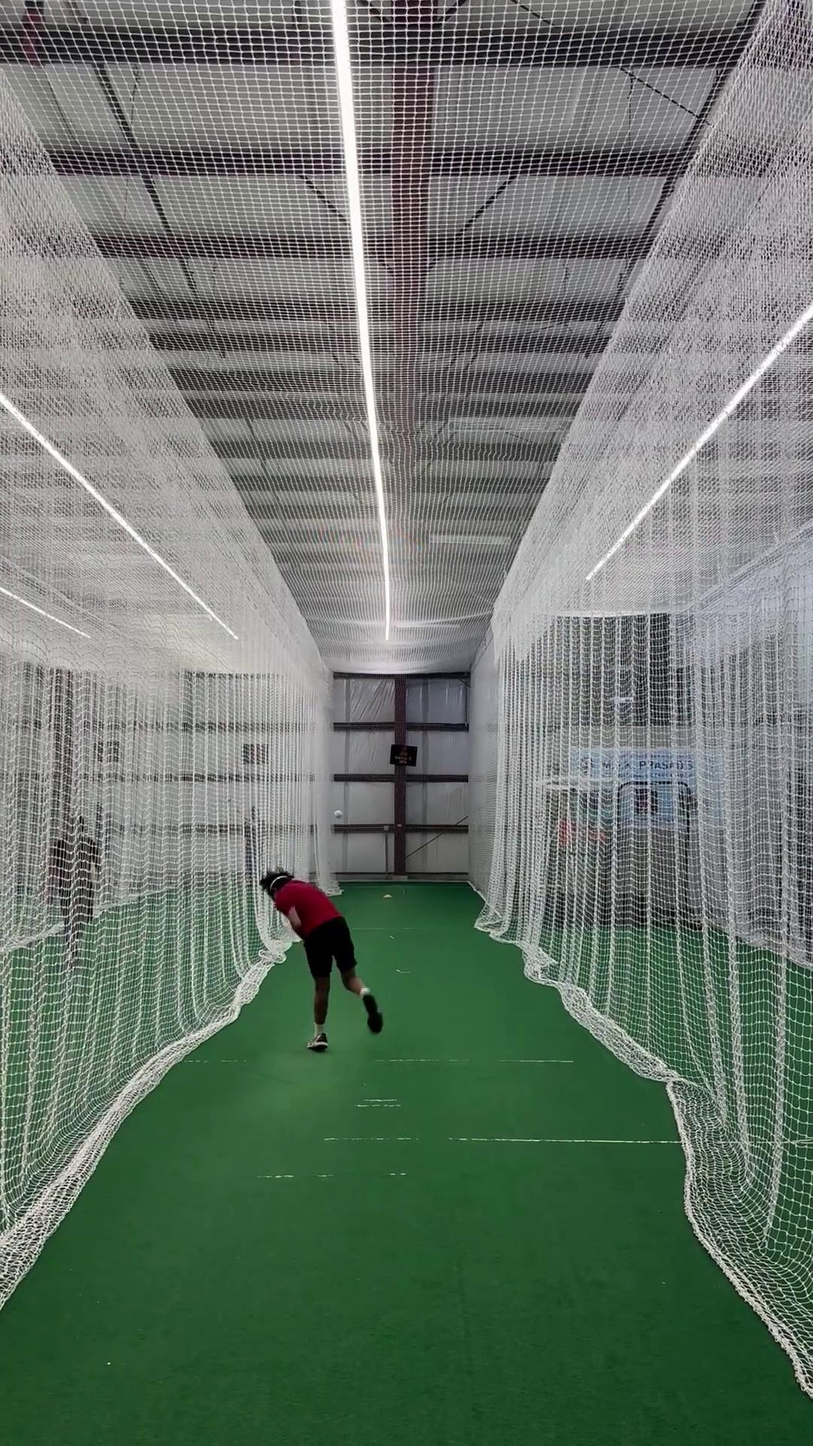ball: (331, 806, 346, 823)
